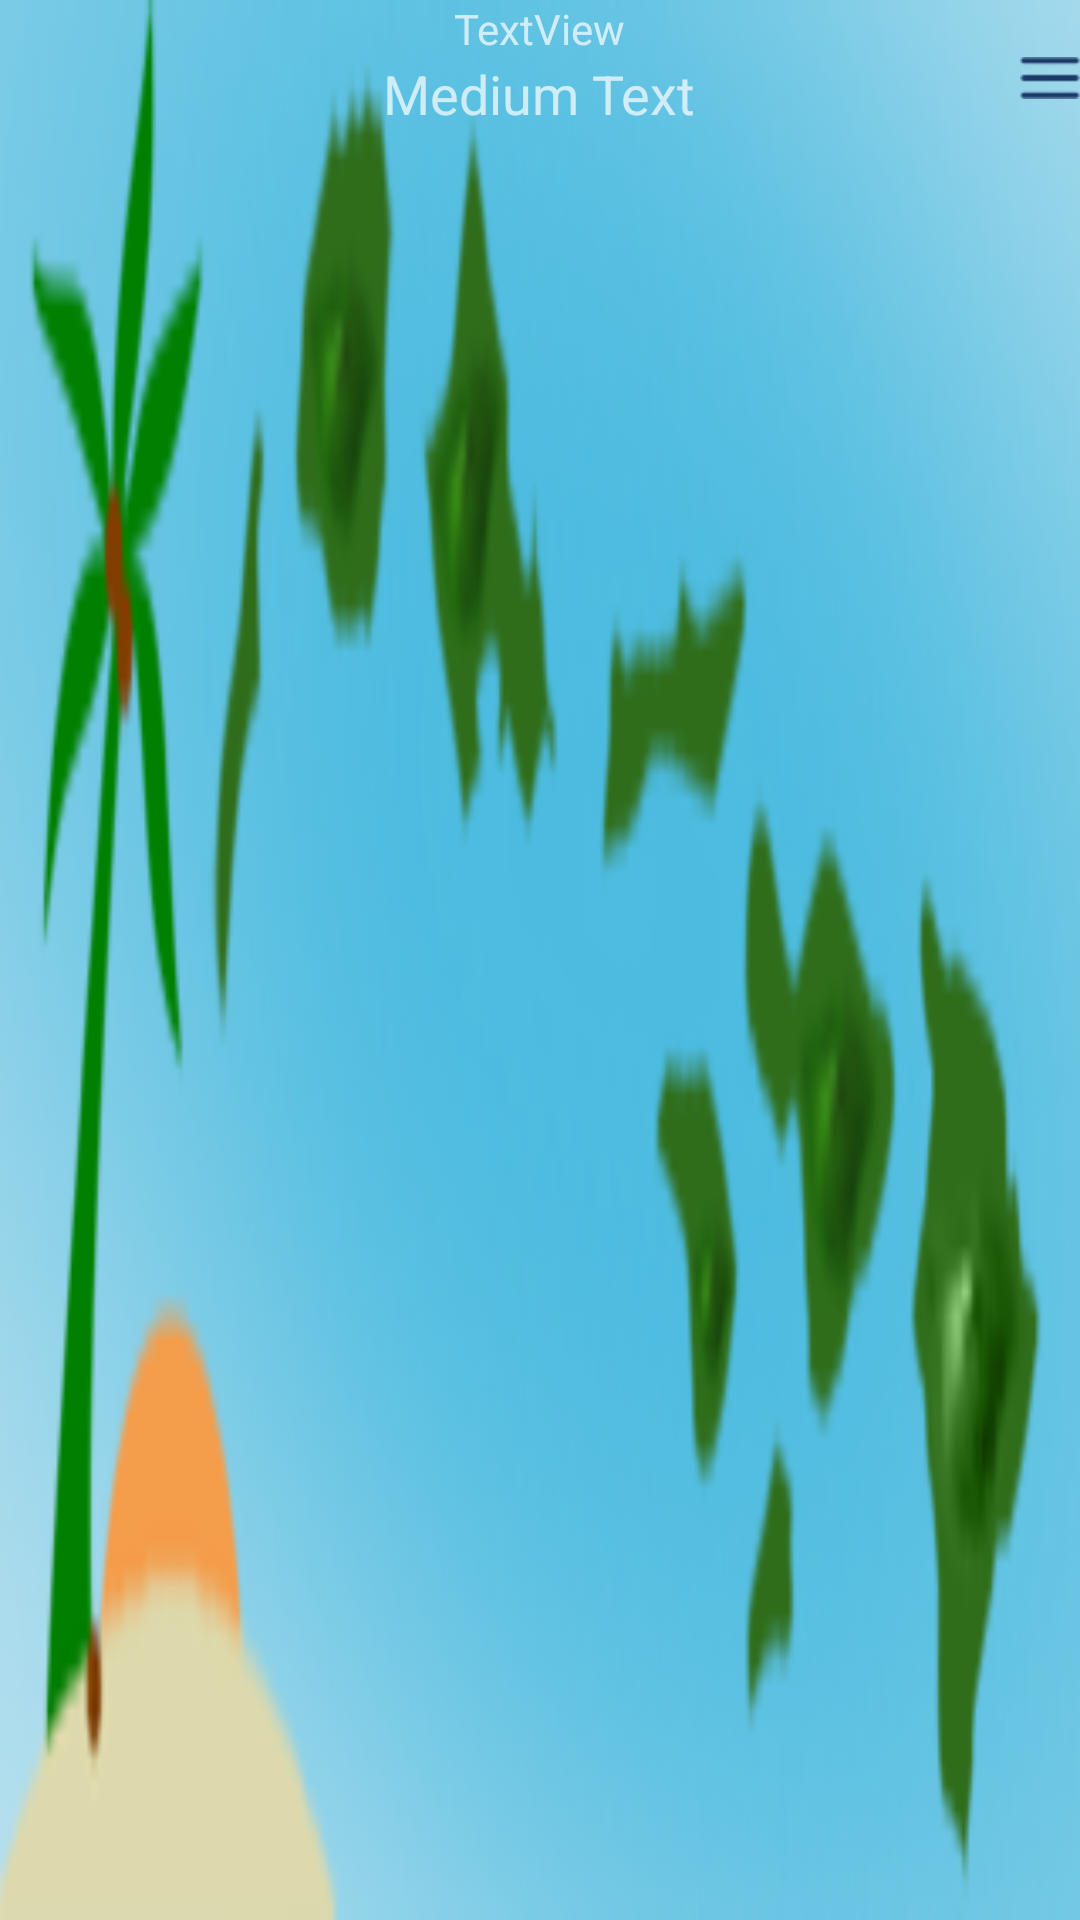

Icons on this 1080px×1920px Android screen, each with its box as [x1=x1, y1=y1, x2=x2, y2=y2]:
menu: [x1=1020, y1=57, x2=1080, y2=99]
